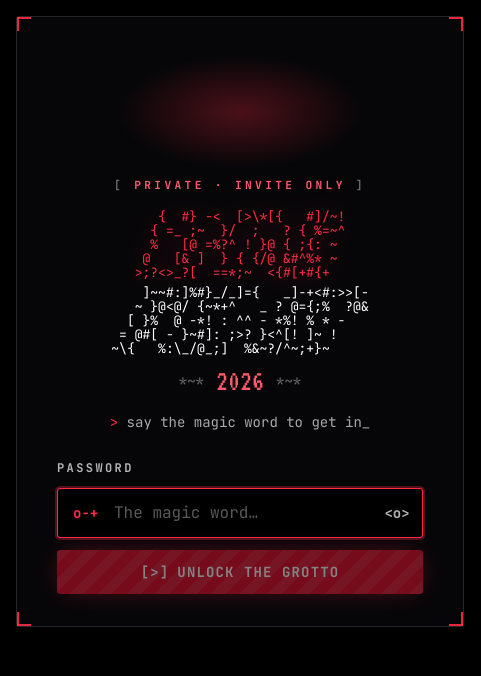
it: LoginScreen › shows an error and stays locked when the password is wrong
In the password field labelled "Password": point(240, 513) [57,488,423,538], type "mince pies"
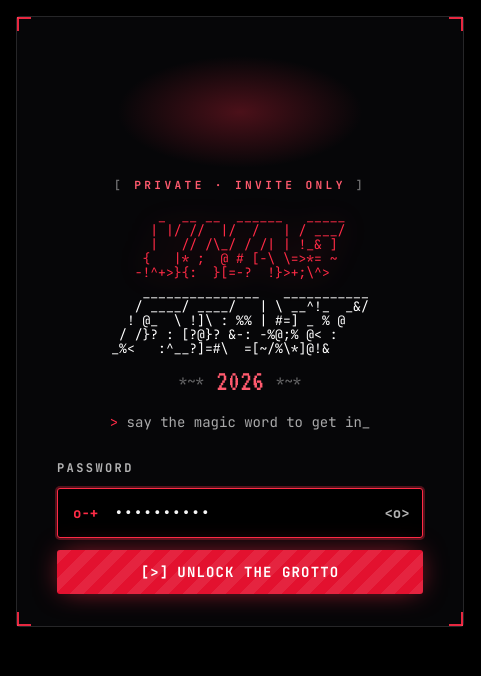
Click the button "[>] Unlock the grotto": point(240, 572) [57,550,423,594]
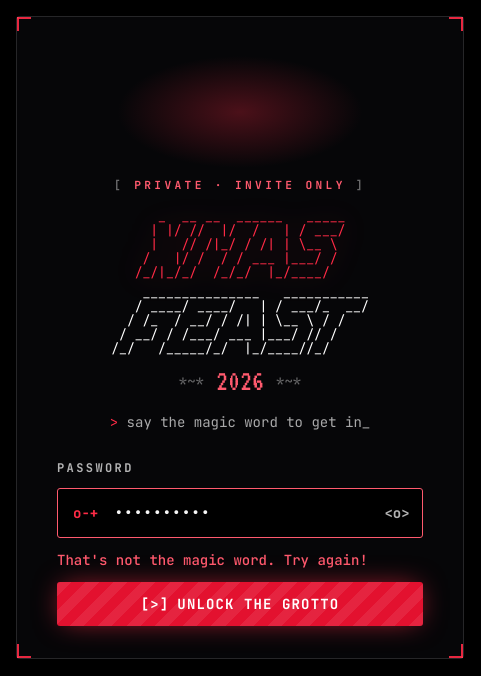
Expected: the message shows "That's not the magic word", [57,551,368,569]
